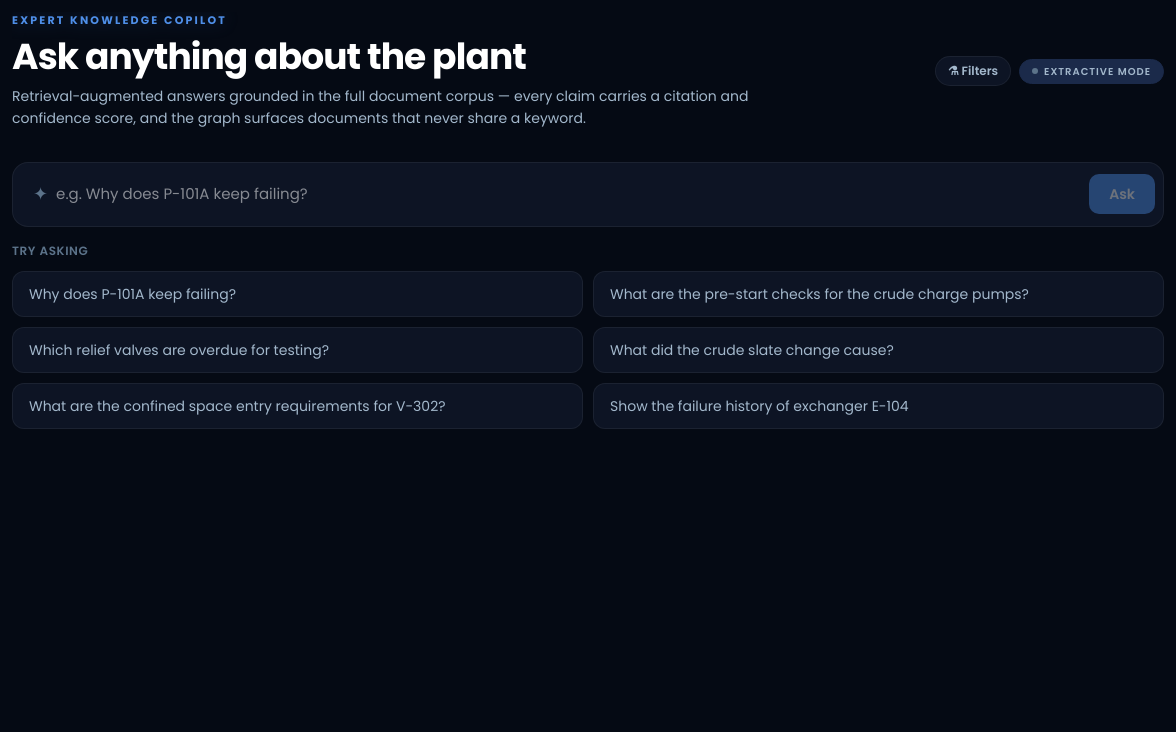
Test case: Copilot page › the Filters toggle opens the metadata filter bar
Check: the text "Extractive mode" is shown, box [1019, 58, 1164, 84]
Check: the text "Document type" is not shown
Click the button "⚗ Filters".
click(973, 71)  # box [935, 56, 1011, 86]
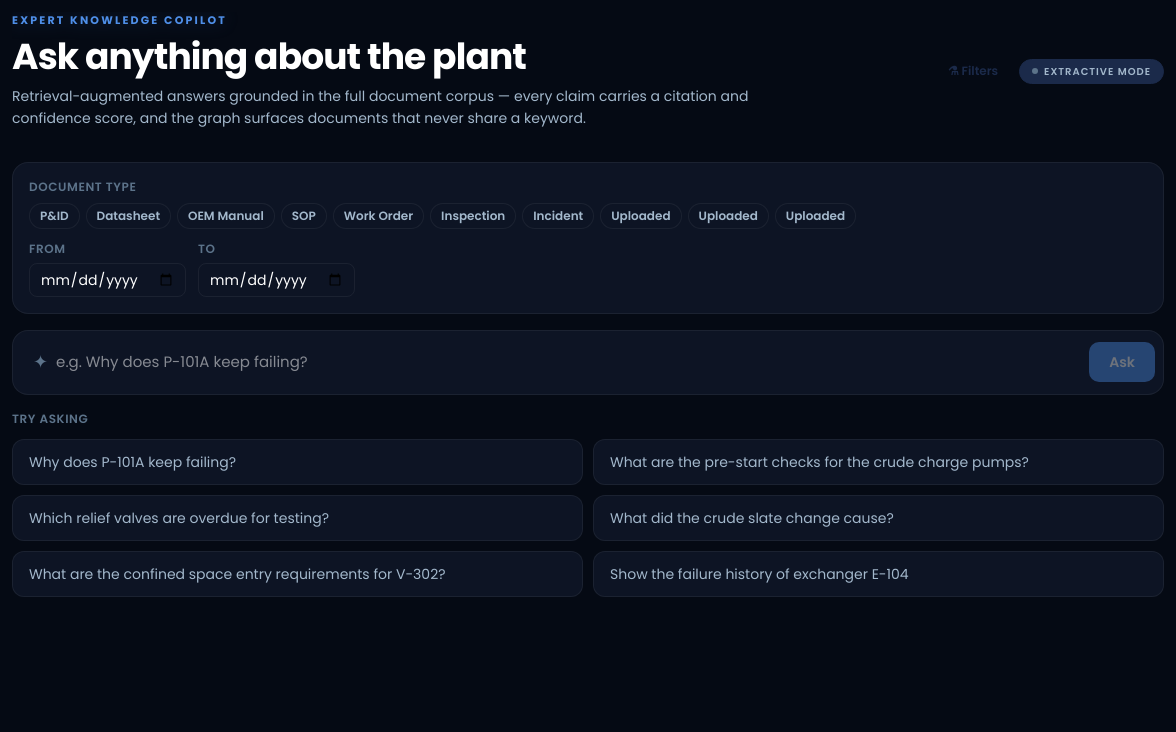
Check: the text "Document type" is shown, box [29, 178, 136, 195]
Check: the button "Work Order" is shown, box [333, 203, 424, 229]
